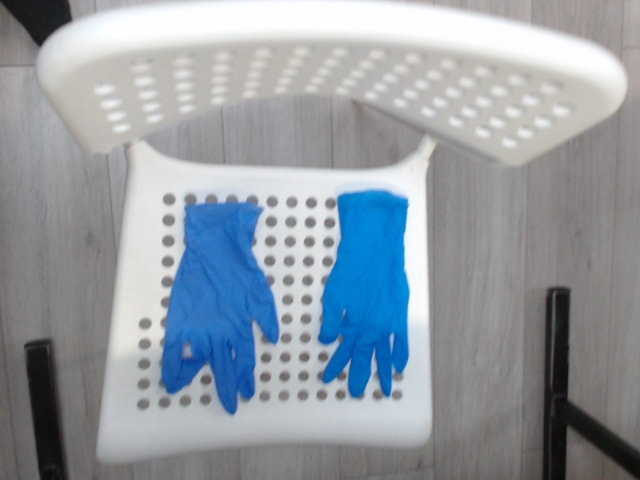medical_glove: (163, 203, 279, 414), (320, 191, 412, 396)
